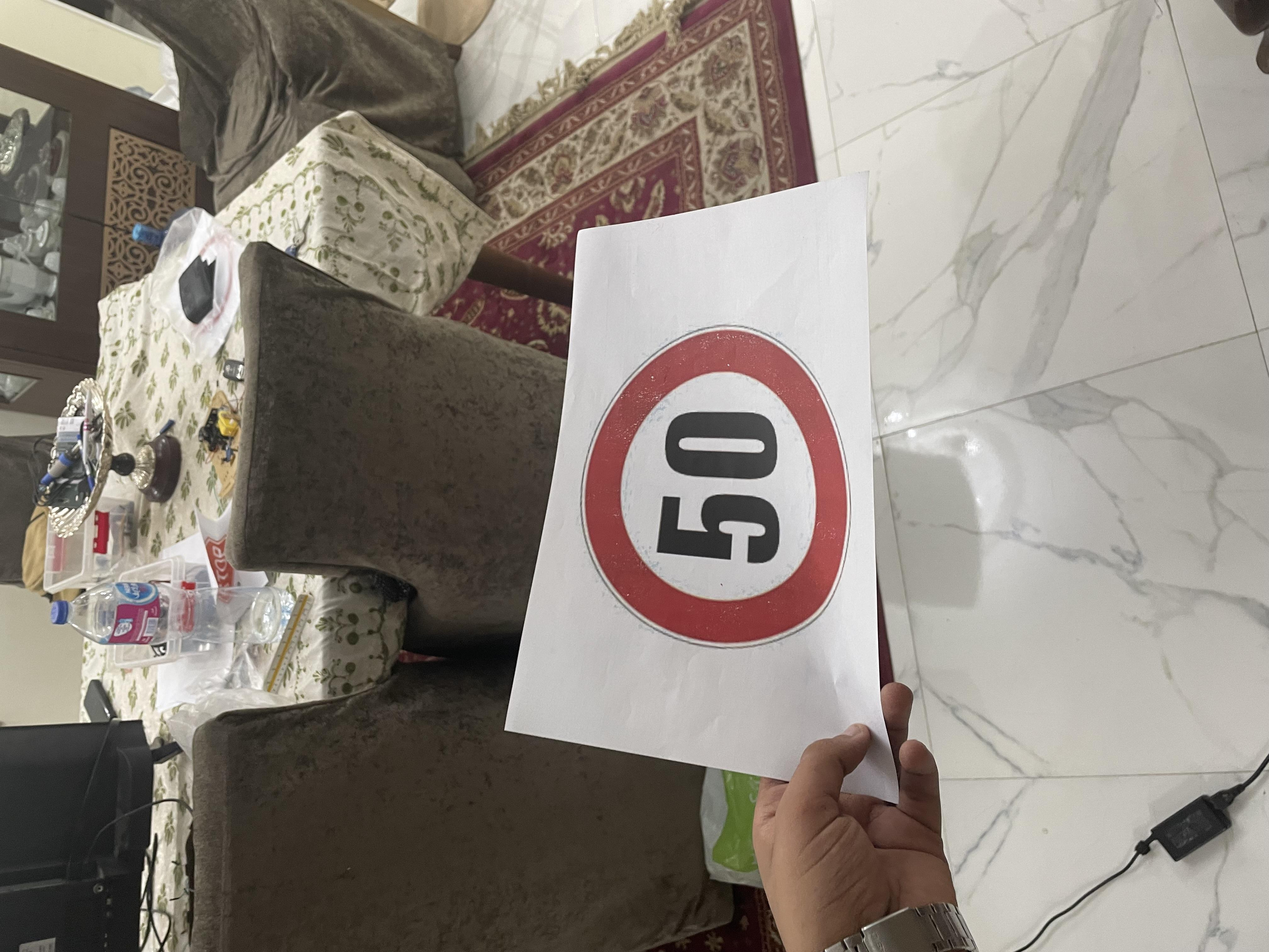50-Speed: (399, 430, 841, 642)
